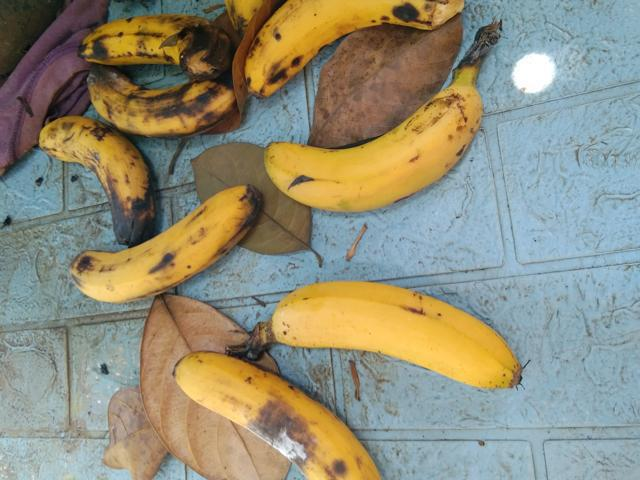freshripe: (249, 91, 522, 240), (241, 263, 548, 382)
ripe: (37, 174, 260, 326), (158, 355, 375, 479), (229, 0, 472, 106)
rotten: (29, 115, 155, 246), (62, 65, 230, 133), (75, 14, 236, 67)
